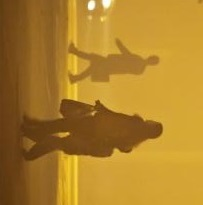person: (22, 97, 163, 136), (65, 35, 160, 85), (19, 131, 138, 161)
